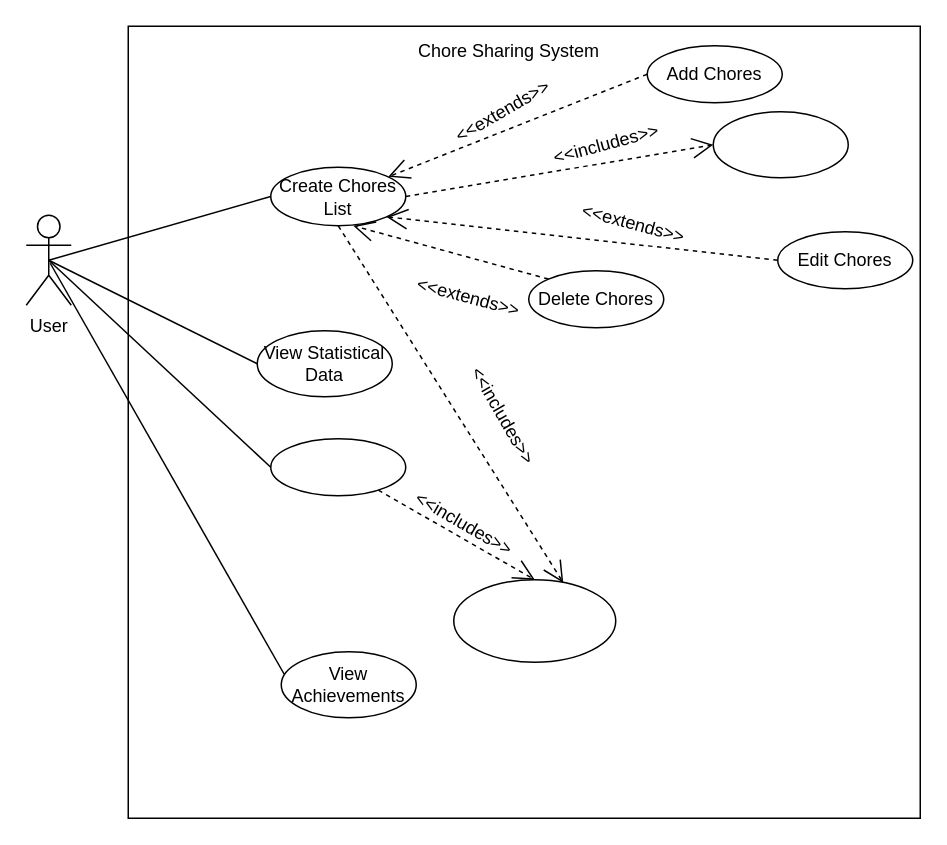
Image size: 947x845. Some labels were removed from this diagram. Each missing label, with the centre of its shape:
Changing Status: point 534,620
Choose Estimate Time: point 780,144
View chores: point 337,466
